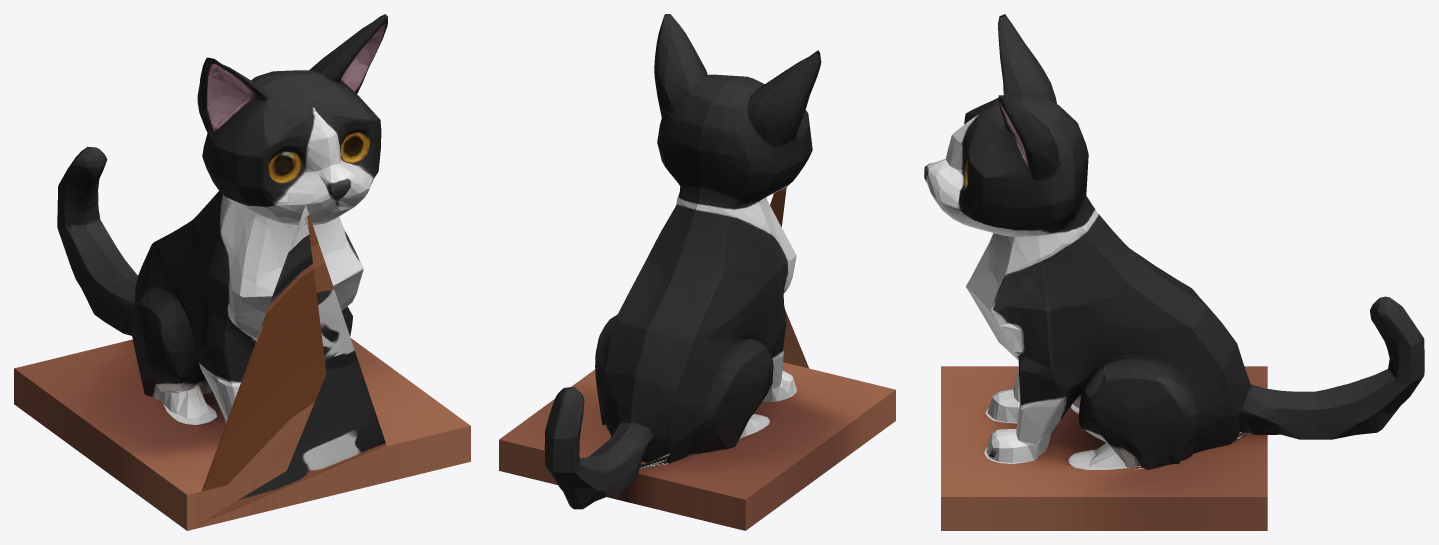
Rendered from model-pick-2.glb.
3 views of the same model, side by side, from view 1: azimuth 30°, elevation 25°; view 2: azimuth 150°, elevation 25°; view 3: azimuth 270°, elevation 25° (orthographic). The views are drawn at different scales.
Visible parts, largest first — view 1: geometry_0; view 2: geometry_0; view 3: geometry_0.
Part boxes in pixels (x1,y1,x2,y2): geometry_0: (14,14,470,530); geometry_0: (499,14,895,530); geometry_0: (924,14,1424,530).
Size of the model in its own units: 0.4174 by 0.6132 by 0.6758.
Materials: 1 (1 with a texture image).
